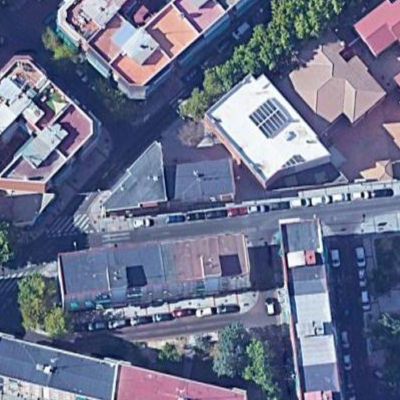tree: (19, 273, 66, 334), (248, 336, 286, 396), (259, 17, 309, 59), (211, 327, 246, 382), (234, 39, 274, 80), (175, 78, 209, 120), (203, 62, 240, 98)
